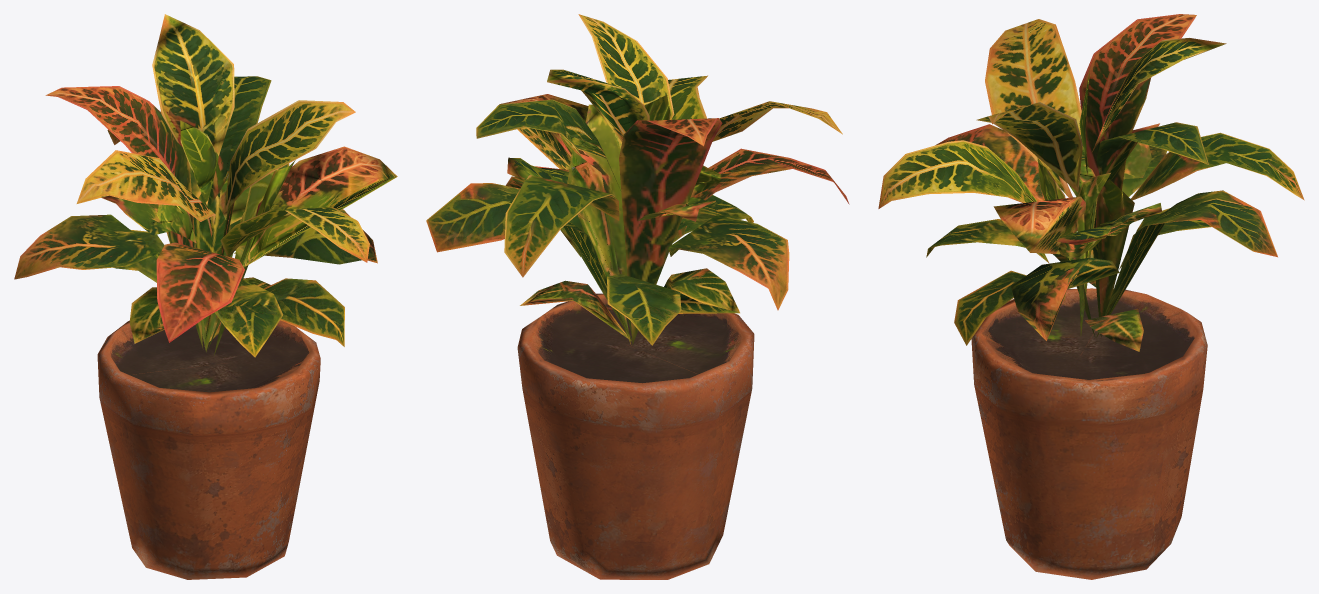
The model's file is Autumn Croton.glb.
The picture shows the model from 3 angles, left to right: view 1: azimuth 30°, elevation 25°; view 2: azimuth 150°, elevation 25°; view 3: azimuth 270°, elevation 25°; orthographic projection. The views are drawn at different scales.
Bounding box in the file's own units: 0.6689 × 0.9521 × 0.7173.
Materials: 1 (1 with a texture image).
